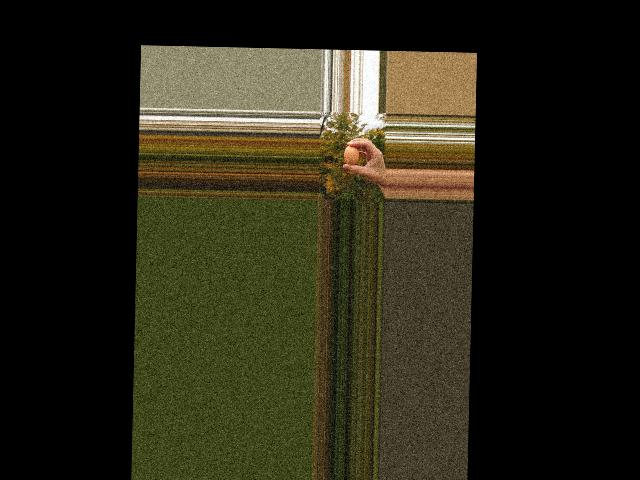egg: (343, 144, 359, 165)
